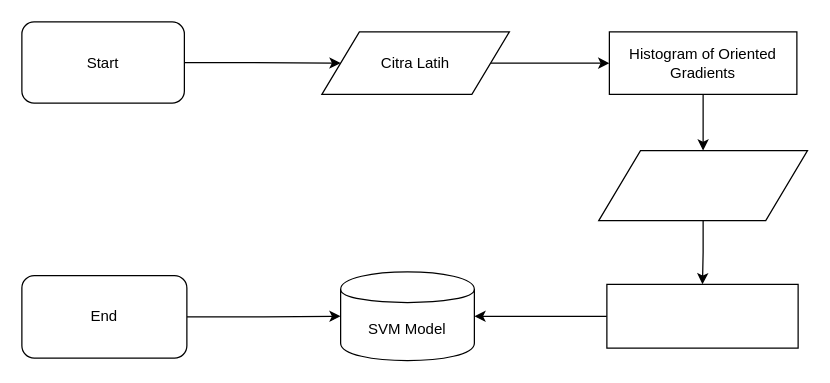
Some shapes in this 830 by 383 pixel diagram are drawn without their labels. The shapes that lost their labels are listed below. From the top down, each one's centre as x and y in pixels, then its label:
At pixel 703 185: "HOG Descriptor".
At pixel 702 315: "Linear SVM Training".
